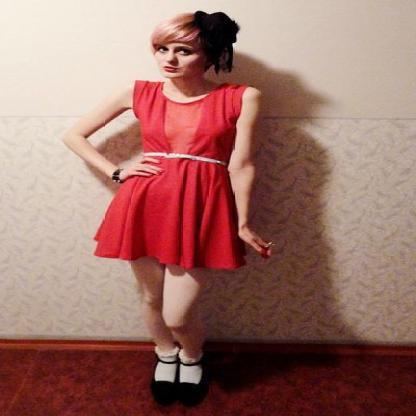dress: (94, 80, 254, 279)
shoe: (151, 382, 207, 407)
